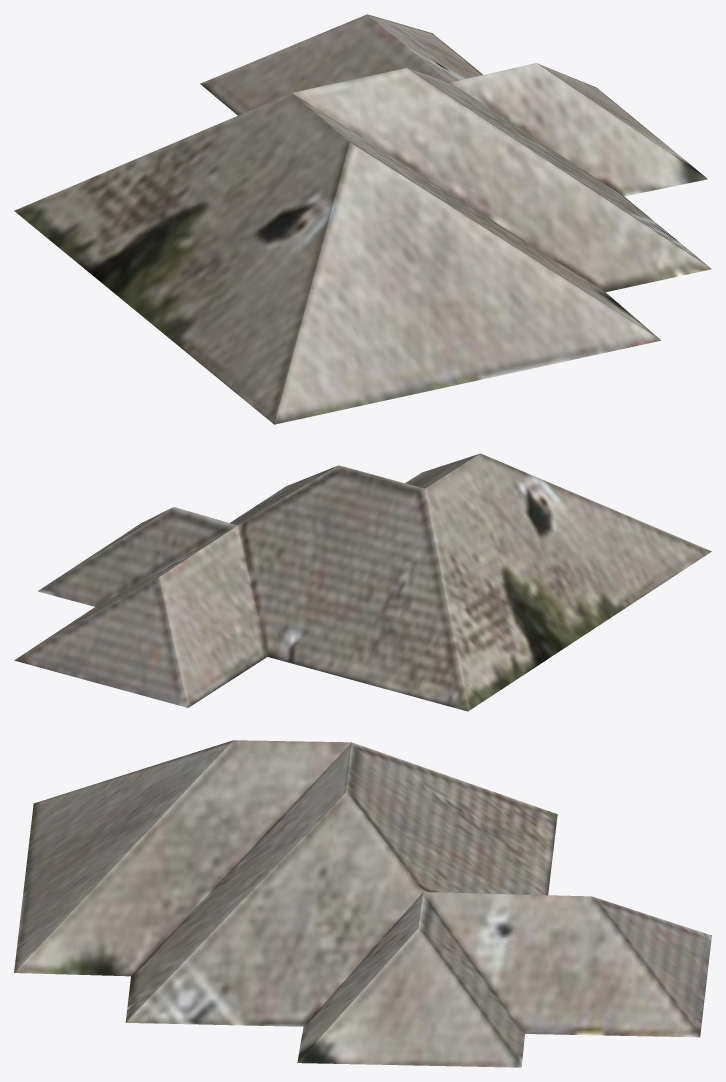
File: CG10_500_040070_0023_roof.obj
3 views of the same model, one above another, from view 1: azimuth 30°, elevation 25°; view 2: azimuth 150°, elevation 25°; view 3: azimuth 270°, elevation 25° (orthographic). The views are drawn at different scales.
Parts seen in each view (by area): view 1: CG10_500_040070_0023_roof; view 2: CG10_500_040070_0023_roof; view 3: CG10_500_040070_0023_roof.
Part boxes in pixels (x1,y1,x2,y2): CG10_500_040070_0023_roof: (14,14,711,424); CG10_500_040070_0023_roof: (14,453,711,711); CG10_500_040070_0023_roof: (14,740,711,1067).
Bounding box in the file's own units: 270 × 70 × 302.
Materials: 1 (1 with a texture image).
